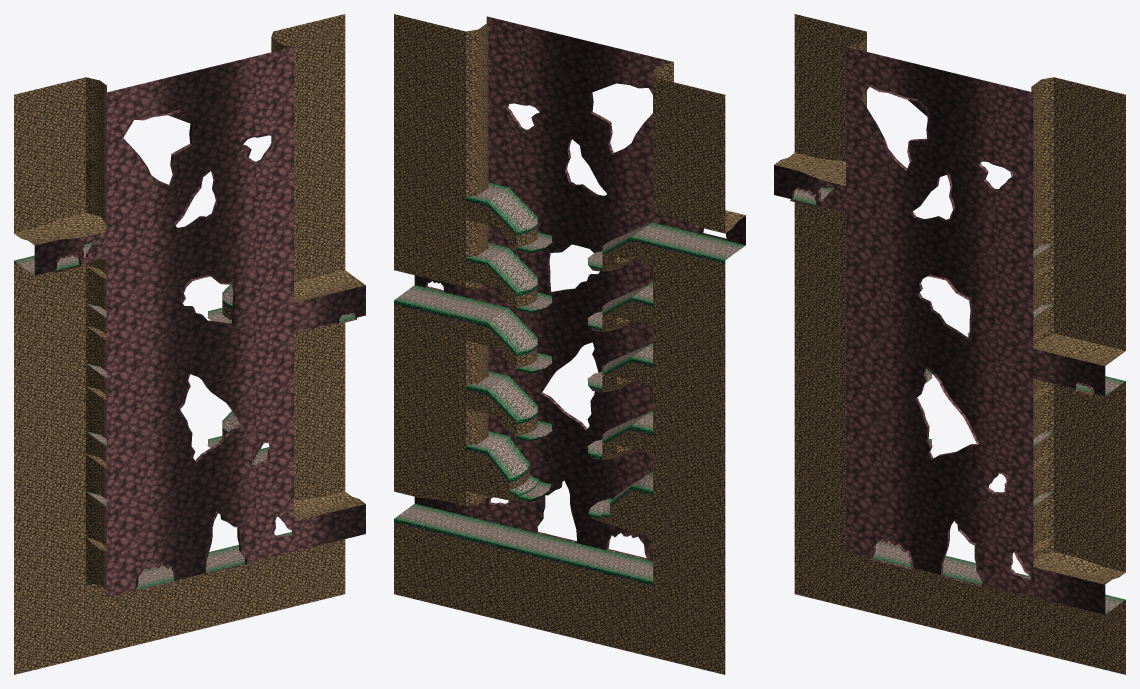
The model's file is Area2_Room18.fbx.
3 renders of one model, left to right at view 1: azimuth 30°, elevation 25°; view 2: azimuth 150°, elevation 25°; view 3: azimuth 330°, elevation 25°, orthographic.
Parts seen in each view (by area): view 1: pCube97; view 2: pCube97; view 3: pCube97.
Boxes of the visible parts, bbox=[...] form: pCube97: bbox=[14, 14, 365, 674]; pCube97: bbox=[394, 14, 745, 674]; pCube97: bbox=[774, 14, 1125, 674].
Bounding box in the file's own units: 46 × 77 × 5.5.
